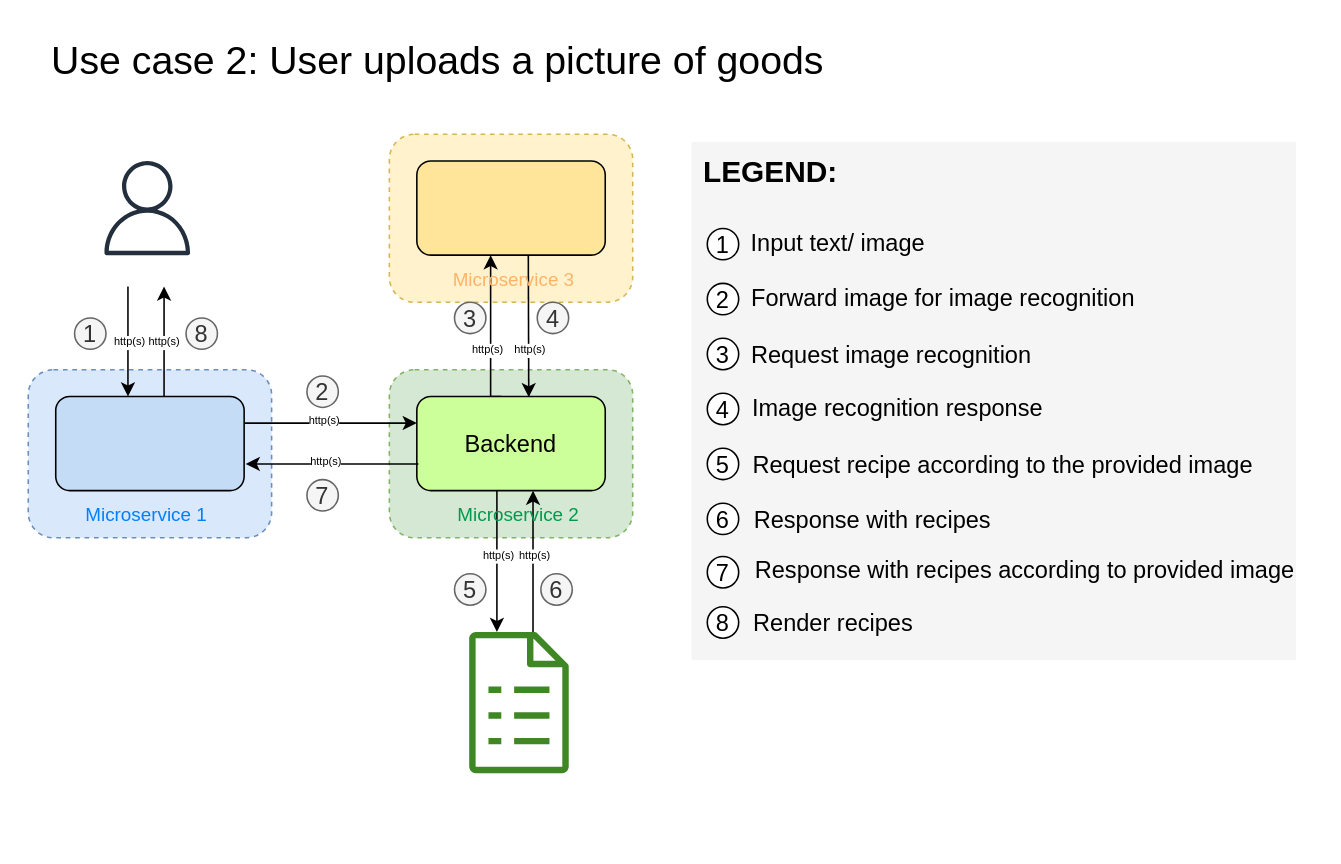
Image size: 1341x864. Some labels were removed from this diagram. The shapes that lost their labels are listed below. From the top down, each one's box as (x1, y1, x2, y2) in pixels, then its label:
(99, 160, 194, 254): User
(415, 159, 605, 255): Image Recognition
(54, 395, 244, 491): Frontend
(468, 631, 568, 772): Recipe API
